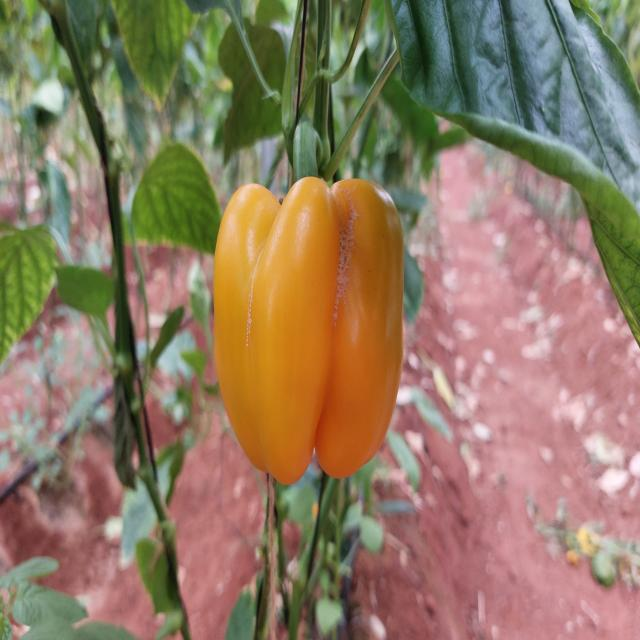Yellow-Ready-to-Harvest: (209, 171, 410, 486)
